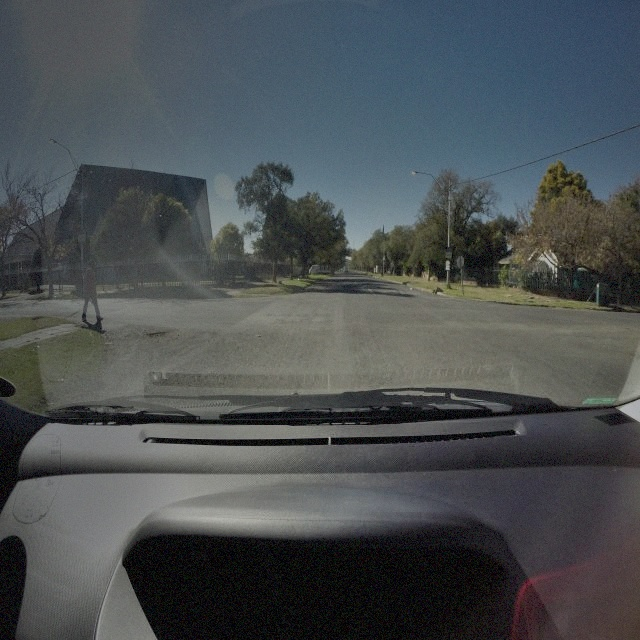pothole: (147, 331, 165, 338)
